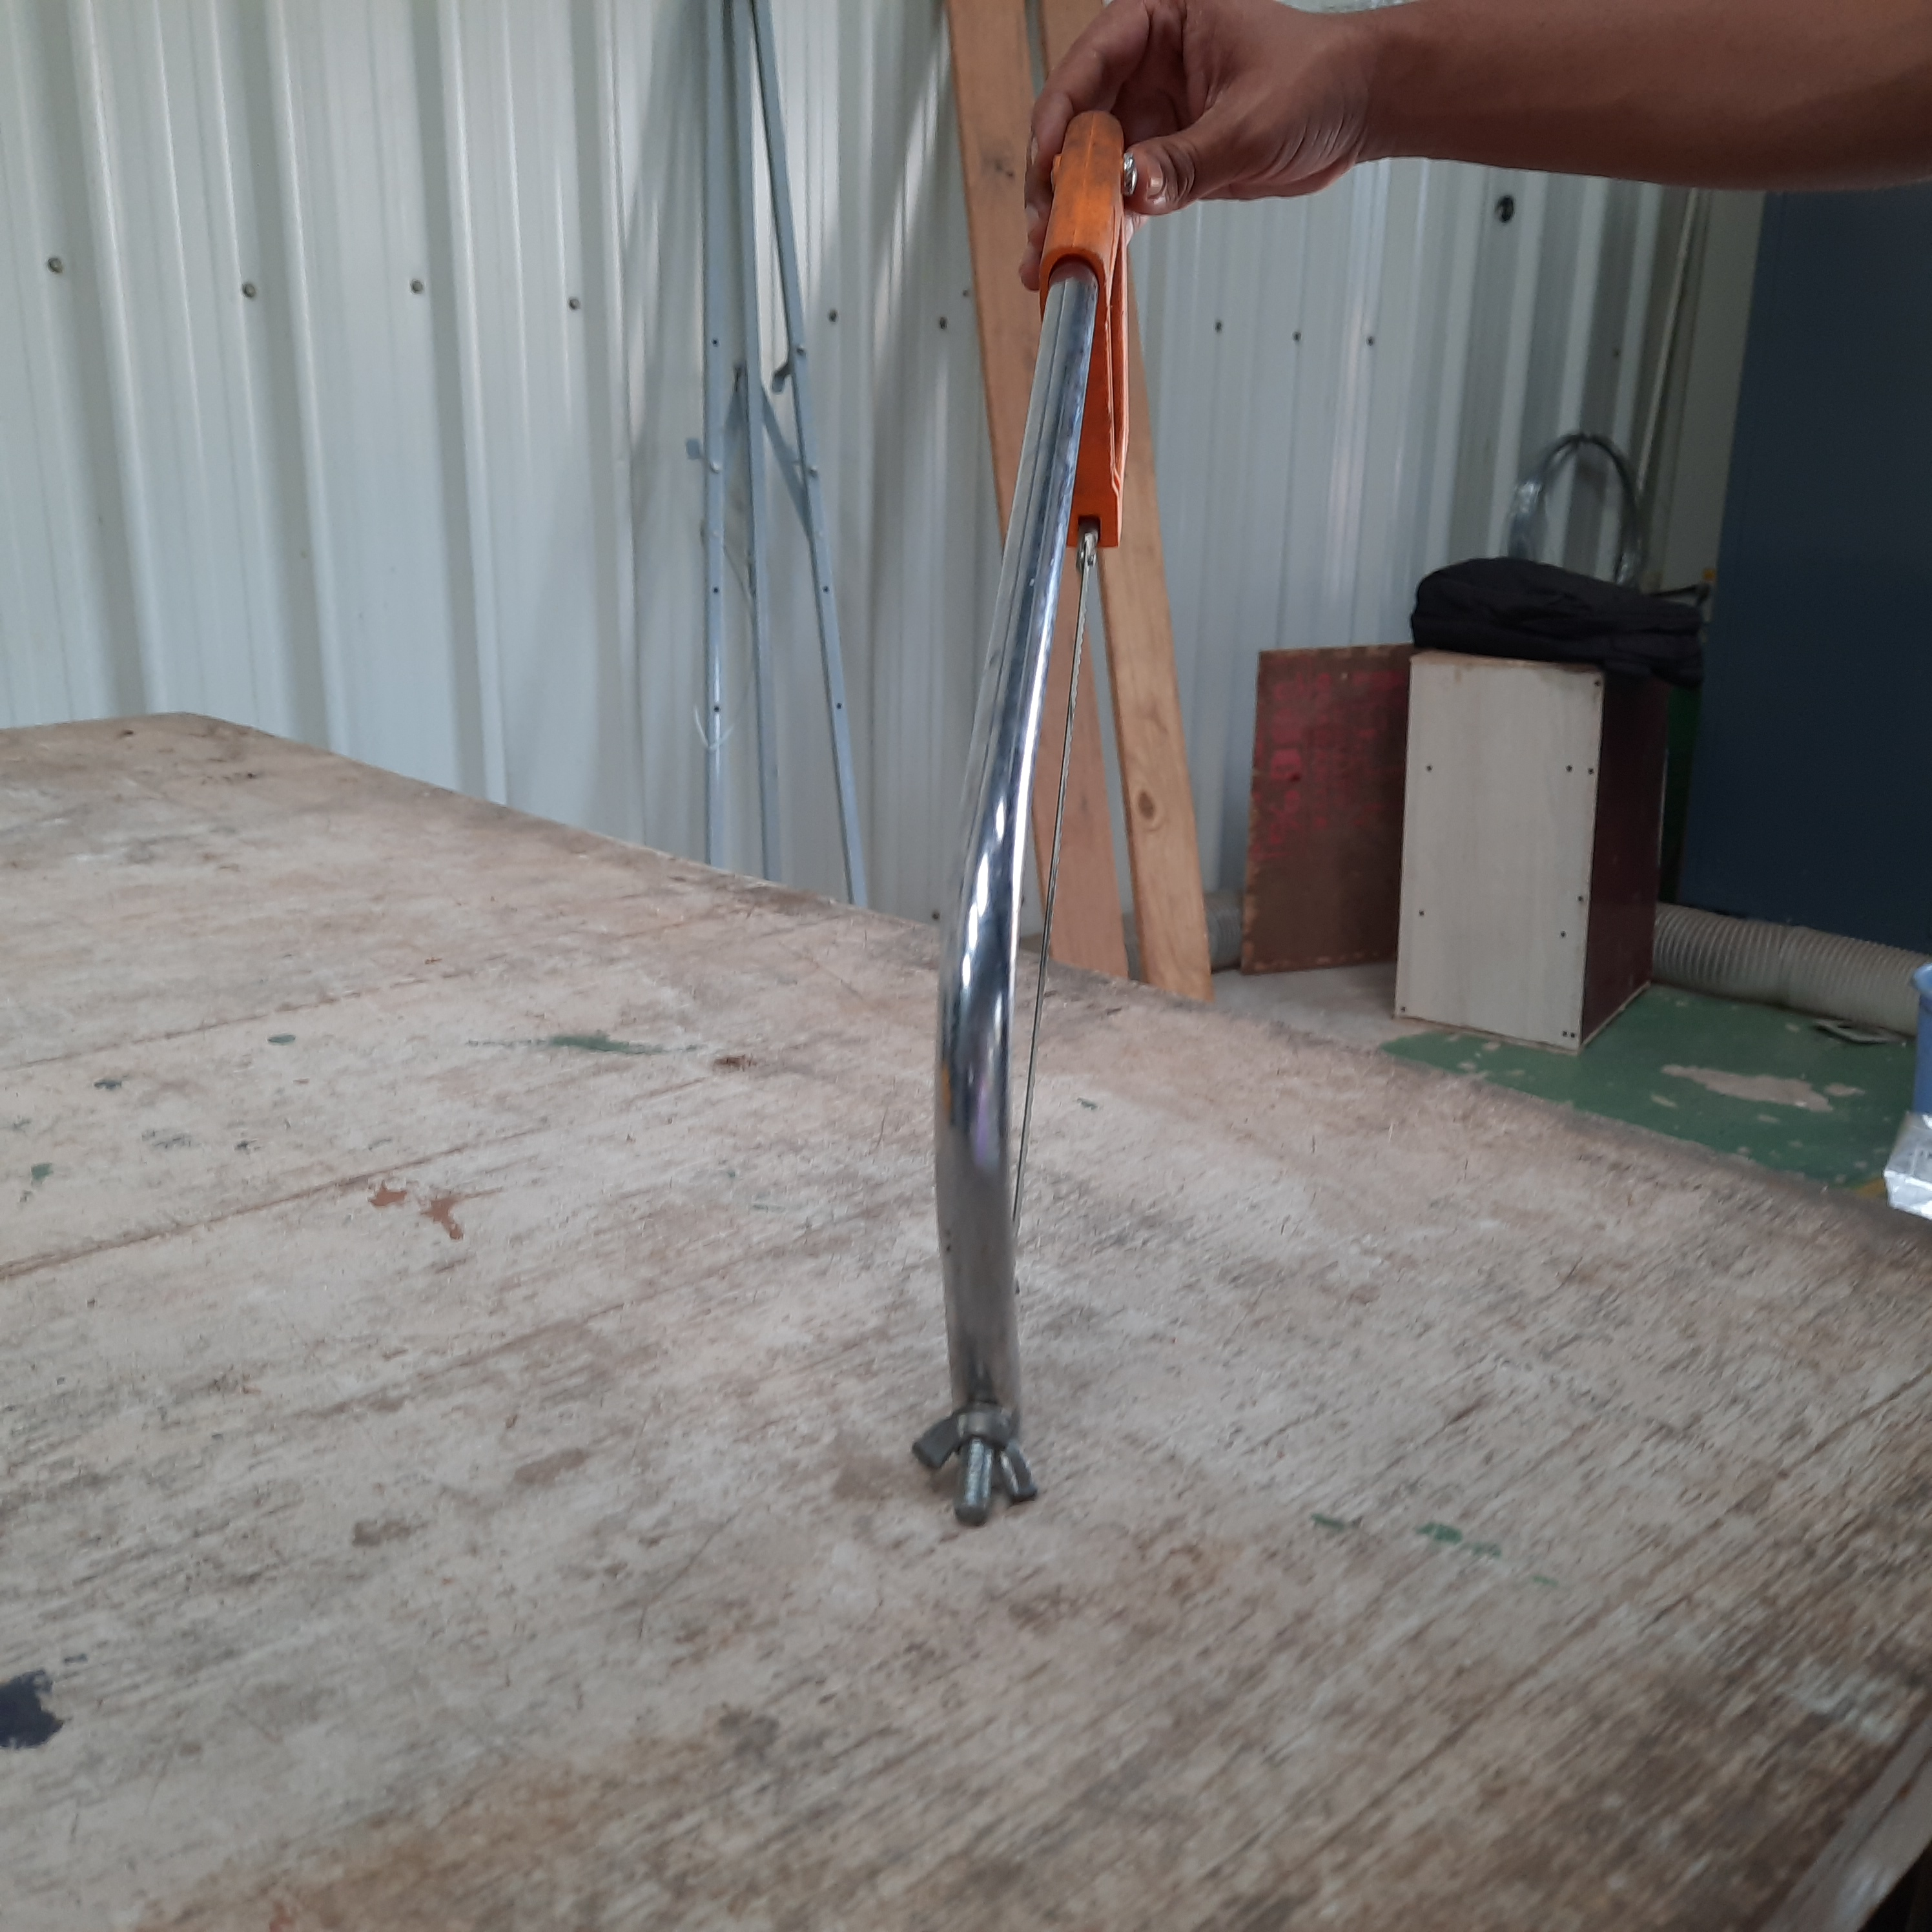Hexaframe: (897, 111, 1254, 1642)
